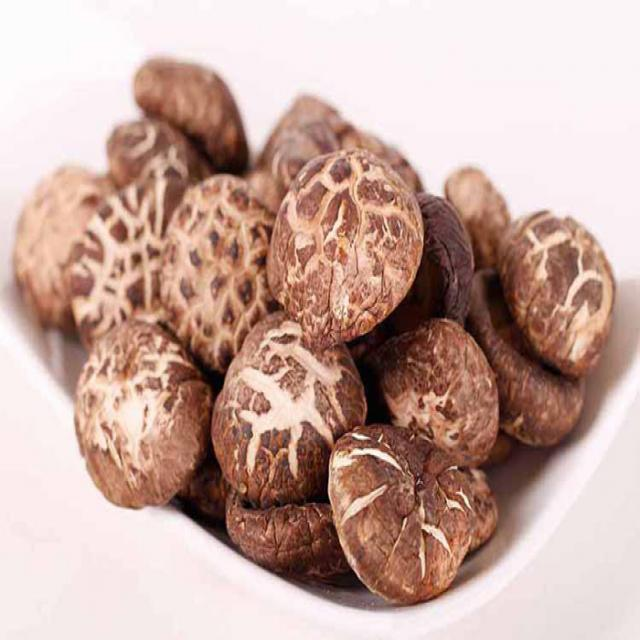Lentinus edodes: (267, 150, 424, 347), (213, 312, 368, 498), (74, 319, 210, 510), (330, 425, 474, 599), (166, 172, 277, 375), (499, 205, 615, 376), (382, 318, 500, 462)
